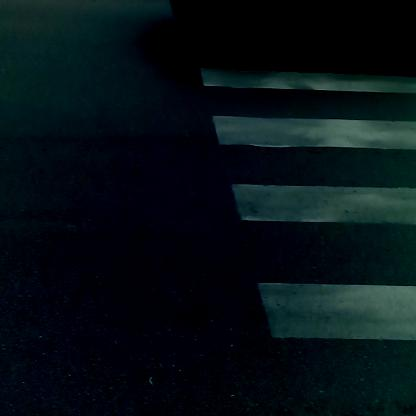crosswalk: (197, 61, 416, 413)
